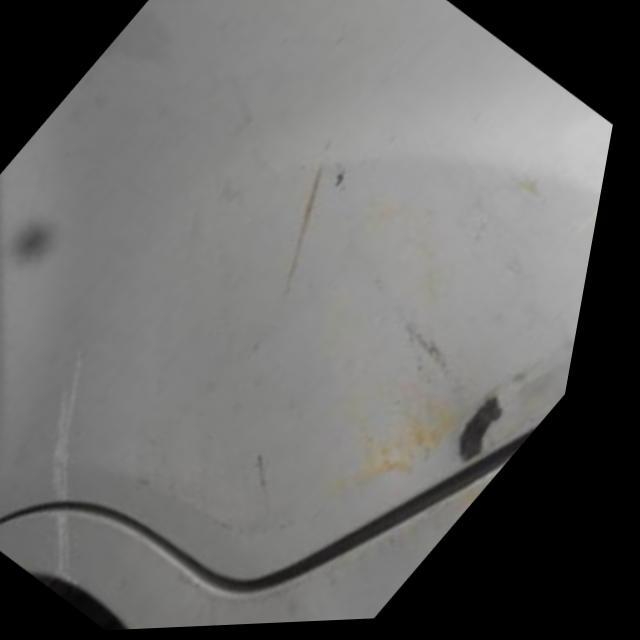rub: (47, 165, 608, 585), (474, 401, 518, 468)
